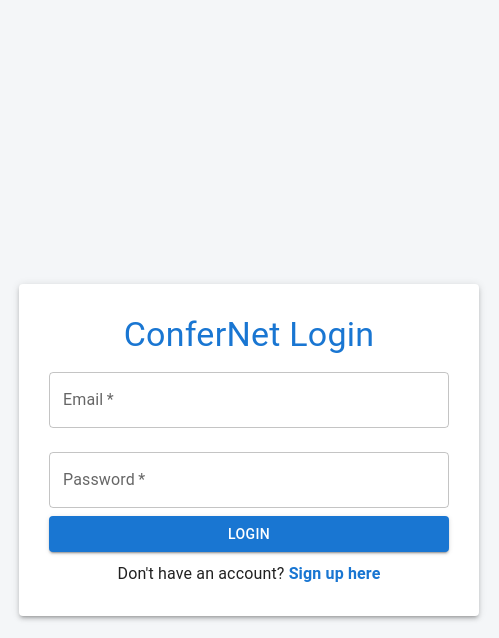
it: Login Component › test-id: 11, shows success snackbar on successful login
Step 1. Type "test@example.com" into the field labelled "Email *" → (249,400), box x1=49 y1=372 x2=449 y2=428
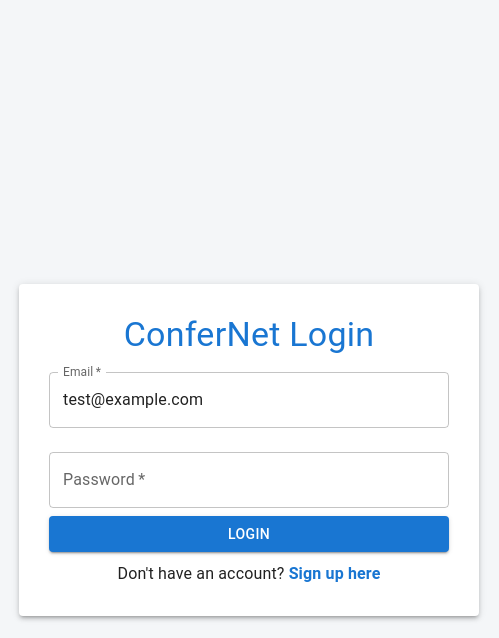
Step 2. Type "password123" into the password field labelled "Password *" → (249,480), box x1=49 y1=452 x2=449 y2=508
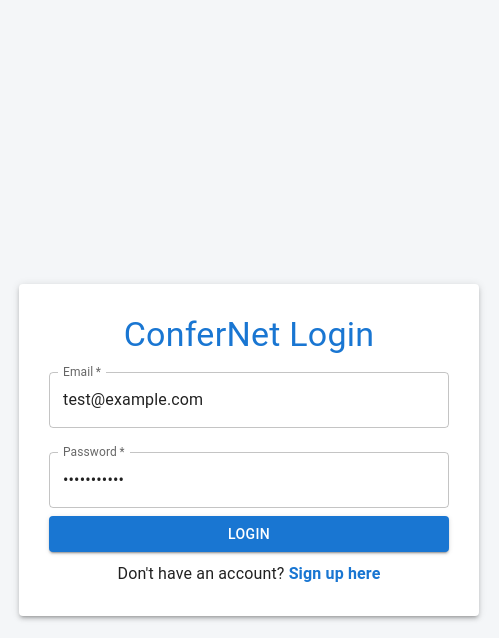
Step 3. Click the button "Login" → (249,534), box x1=49 y1=516 x2=449 y2=552
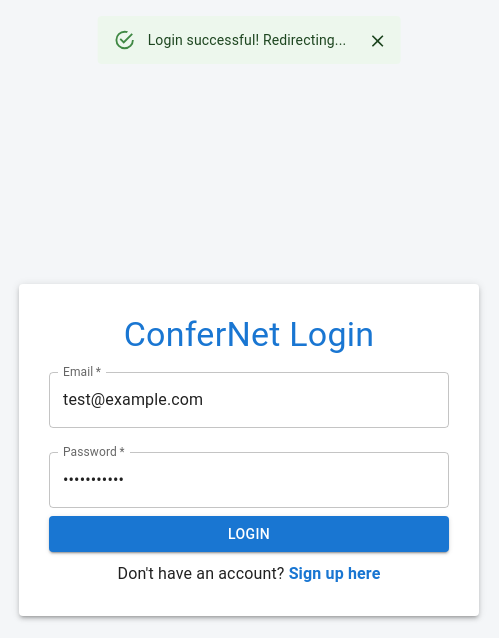
Expected: the text "Login successful! Redirecting..." is shown, x1=148 y1=32 x2=346 y2=48
